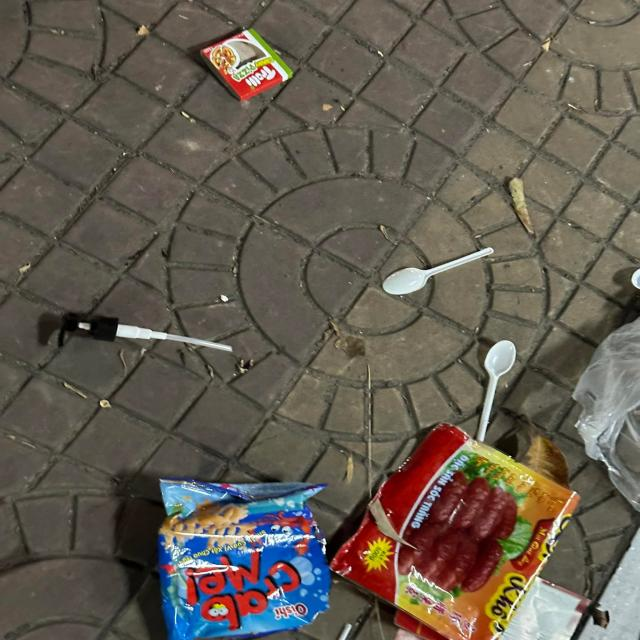bag: (573, 316, 640, 514)
packet: (201, 29, 293, 101)
plastic utensil: (381, 248, 495, 294), (476, 341, 517, 442)
snack package: (330, 422, 583, 640), (160, 476, 331, 640)
